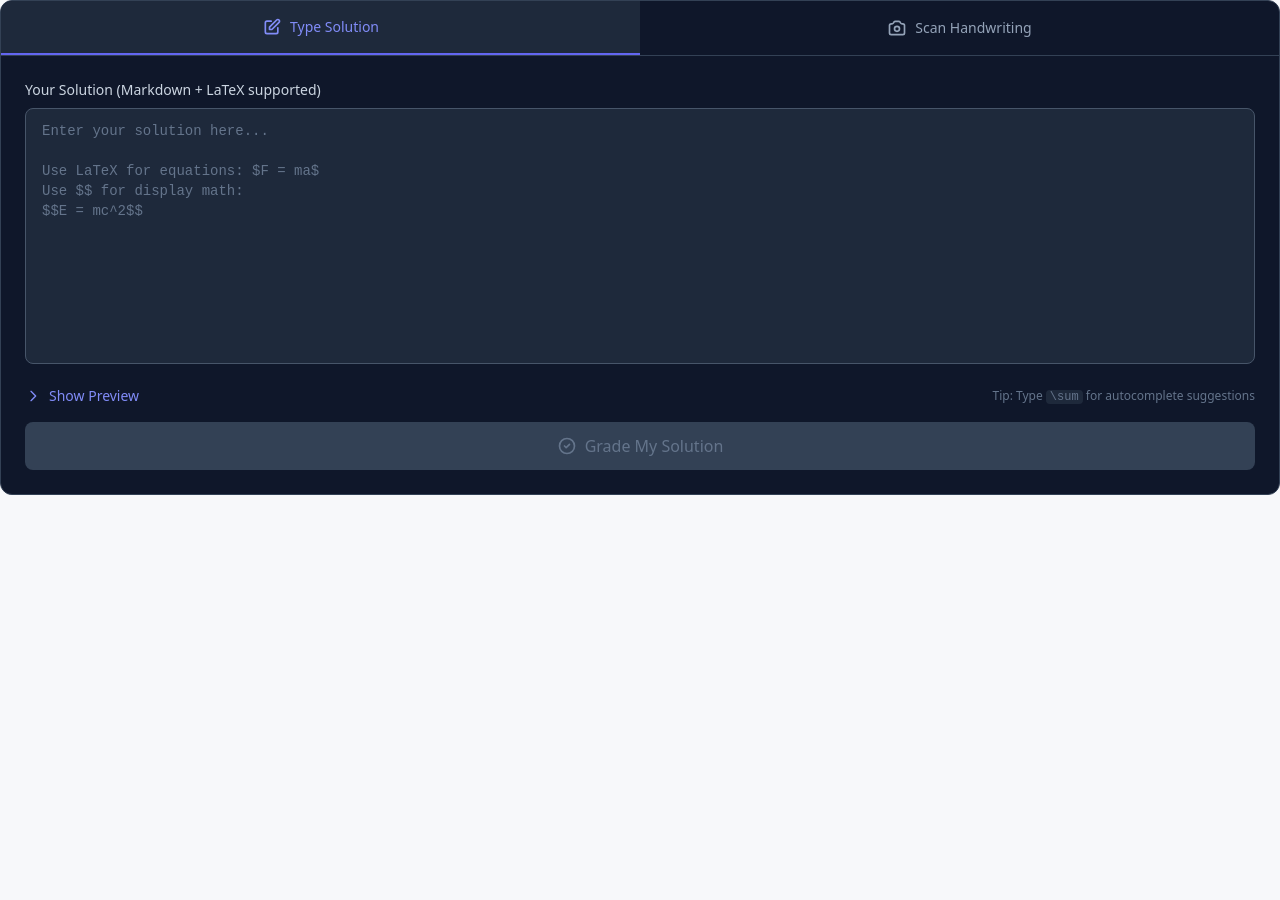
SubmissionCanvas - ConstraintFeedback Integration › next action button icons › shows FIX_LINE icon for minor slips
Replace the text in the text box with placeholder "Enter your solution here" with "Solution with sign error" at (640, 236), box [25,108,1255,364]
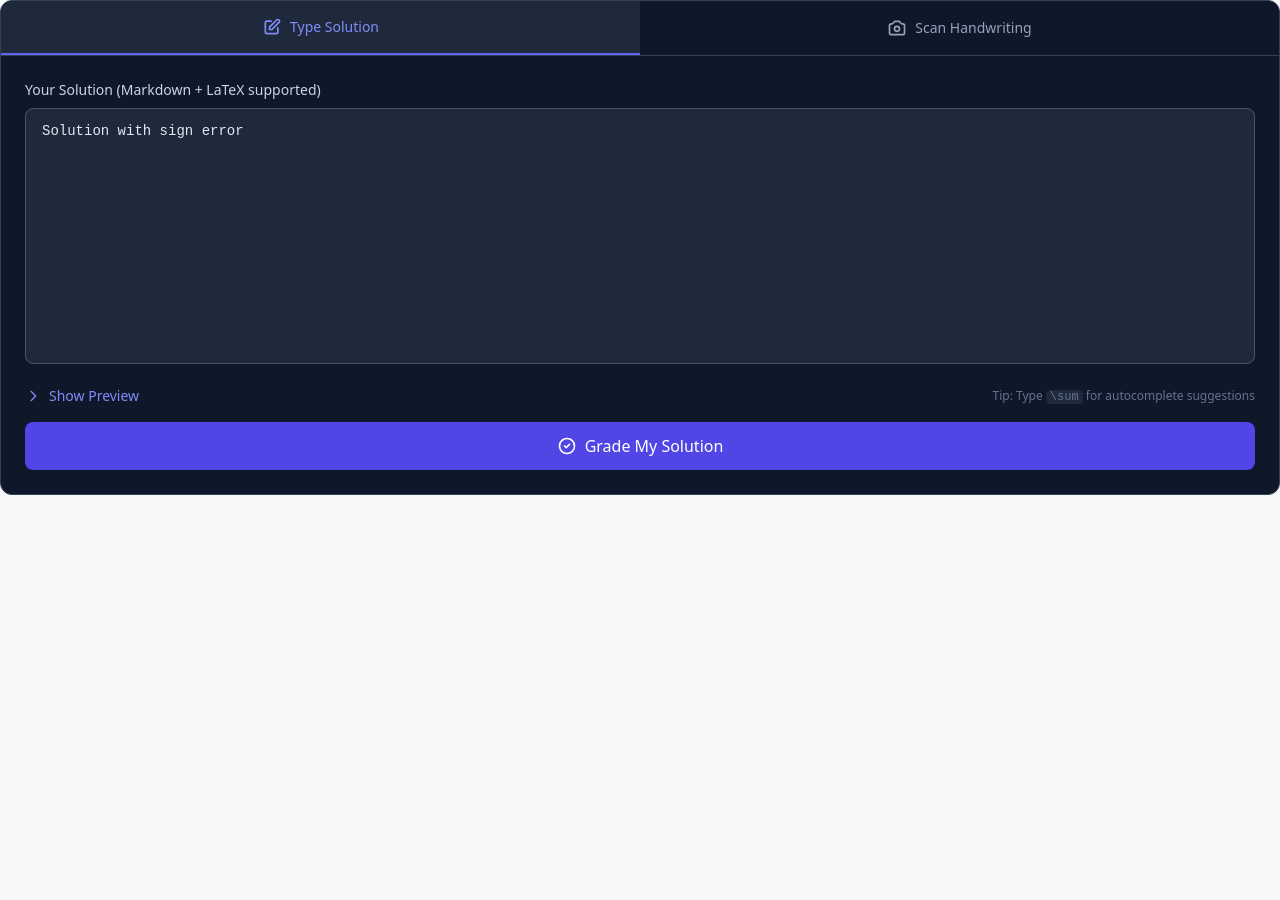
Click the button "Grade My Solution" at (640, 446), box [25,422,1255,470]
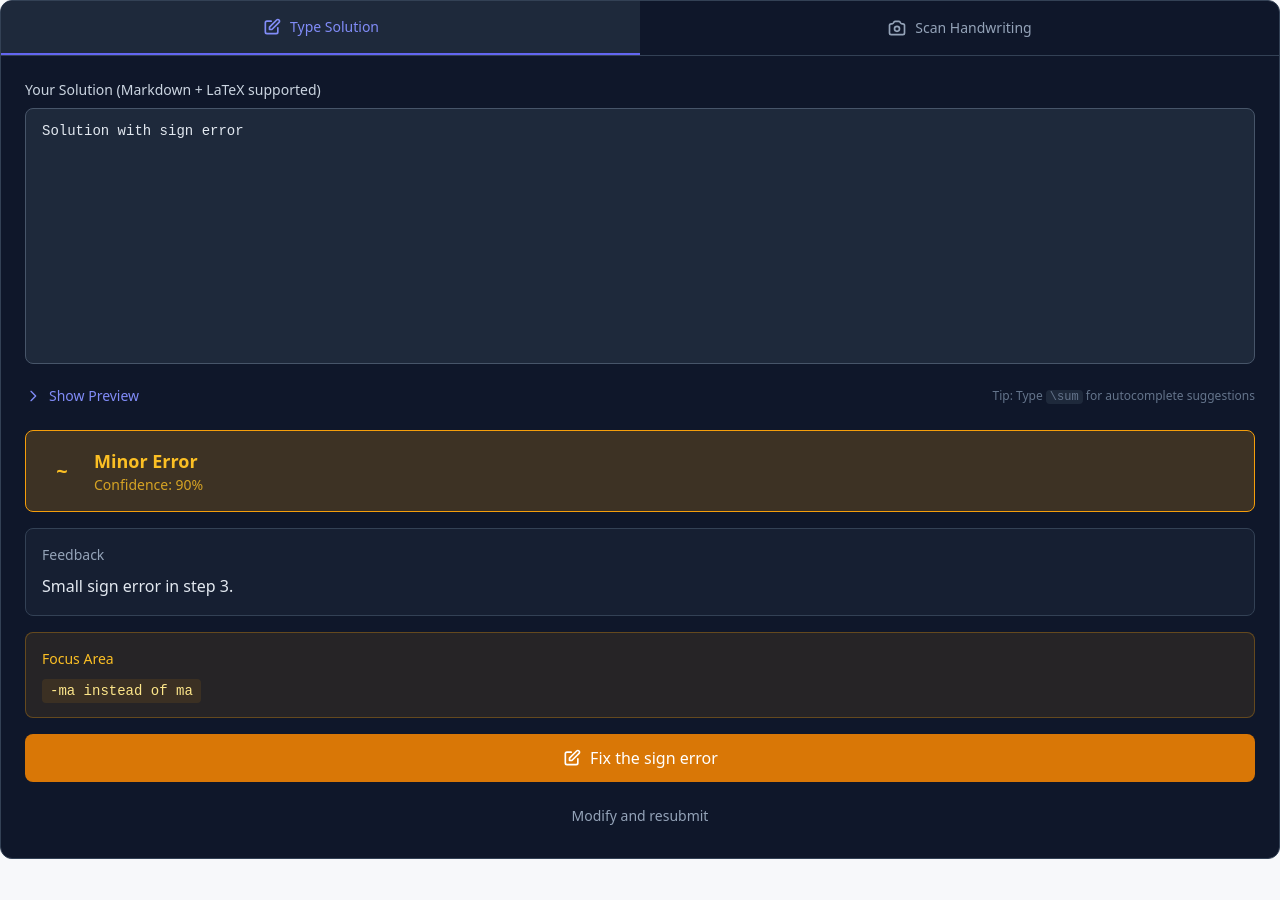
Expected: the 4th icon is shown, [562,748,582,768]
Result: the button "Fix the sign error" is shown at [25,734,1255,782]
